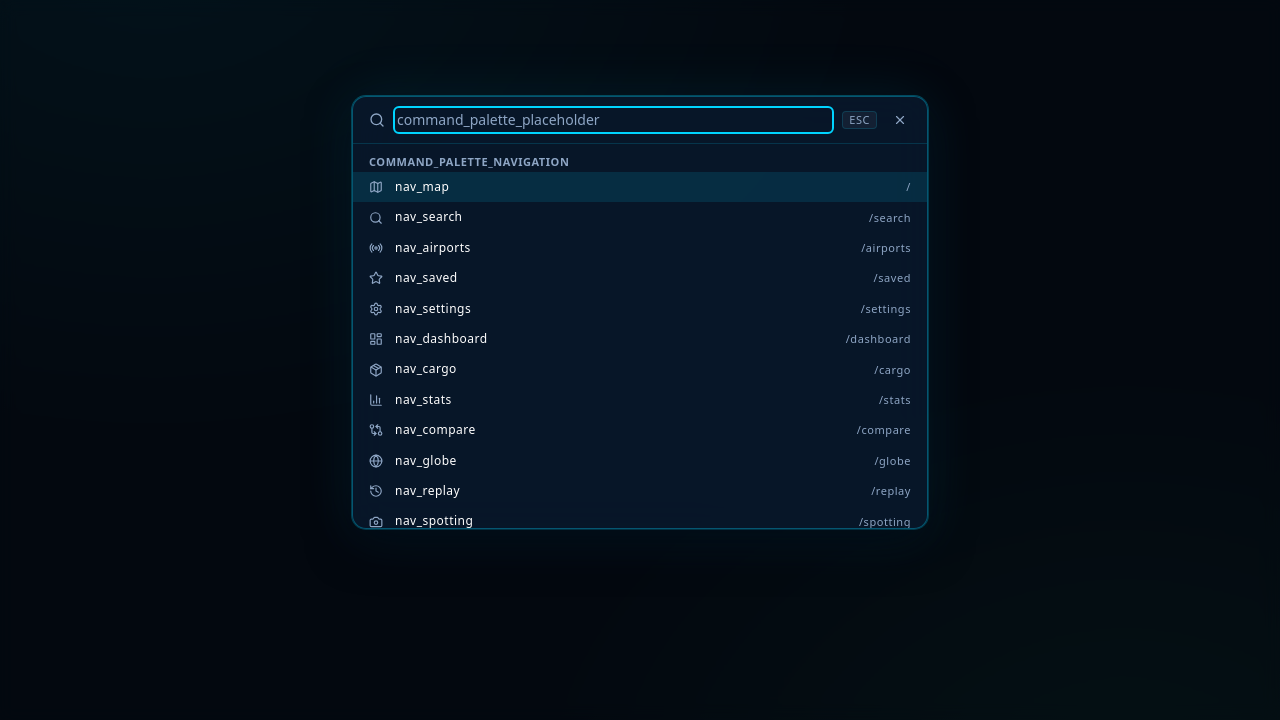
Test: <CommandPalette /> › shows an empty state when nothing matches
Type "qqqzzz-nothing" into the field.
click(614, 120); type("qqqzzz-nothing")  # box 397,110 -> 830,130
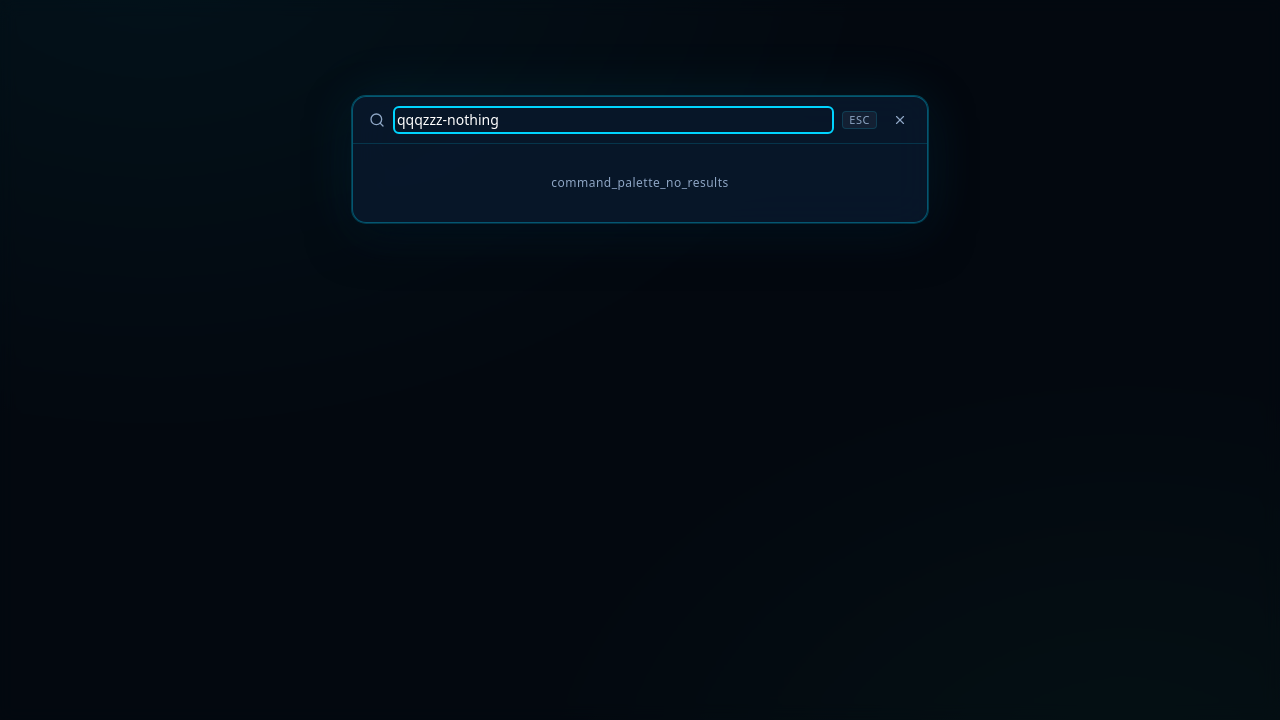
Expected: the text "command_palette_no_results" is shown, 551,174 -> 729,191
Expected: no options are shown
